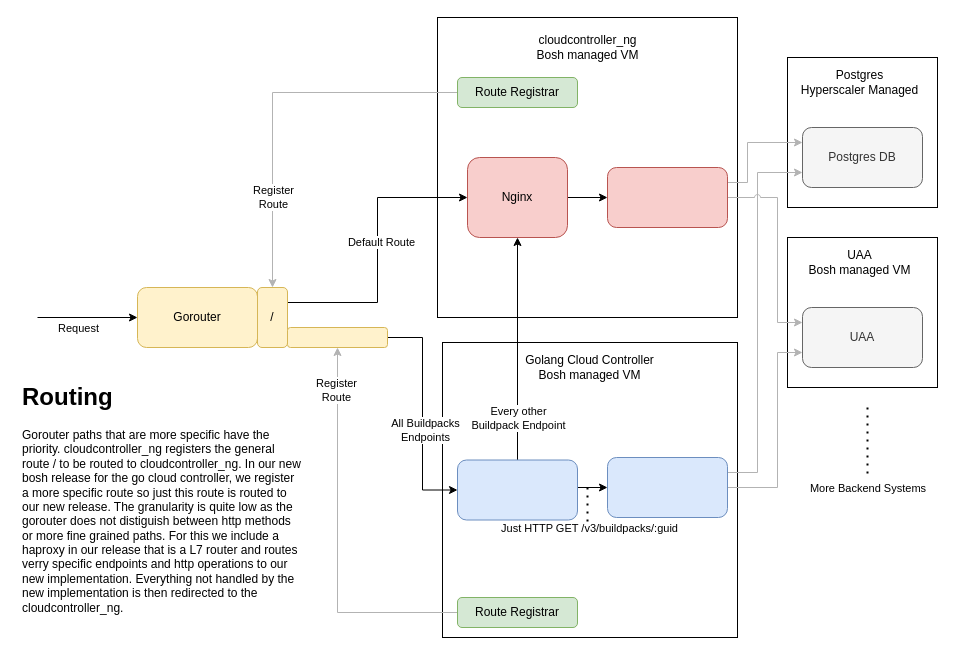
This 955x655 diagram has some shape labels left out. Here are the shapes that lost their labels. From the top down, the centre of each, then its label:
At (667,197): "CC_NG".
At (337,337): "v3/buildpacks".
At (517,489): "HAProxy".
At (667,487): "CC PoC".
